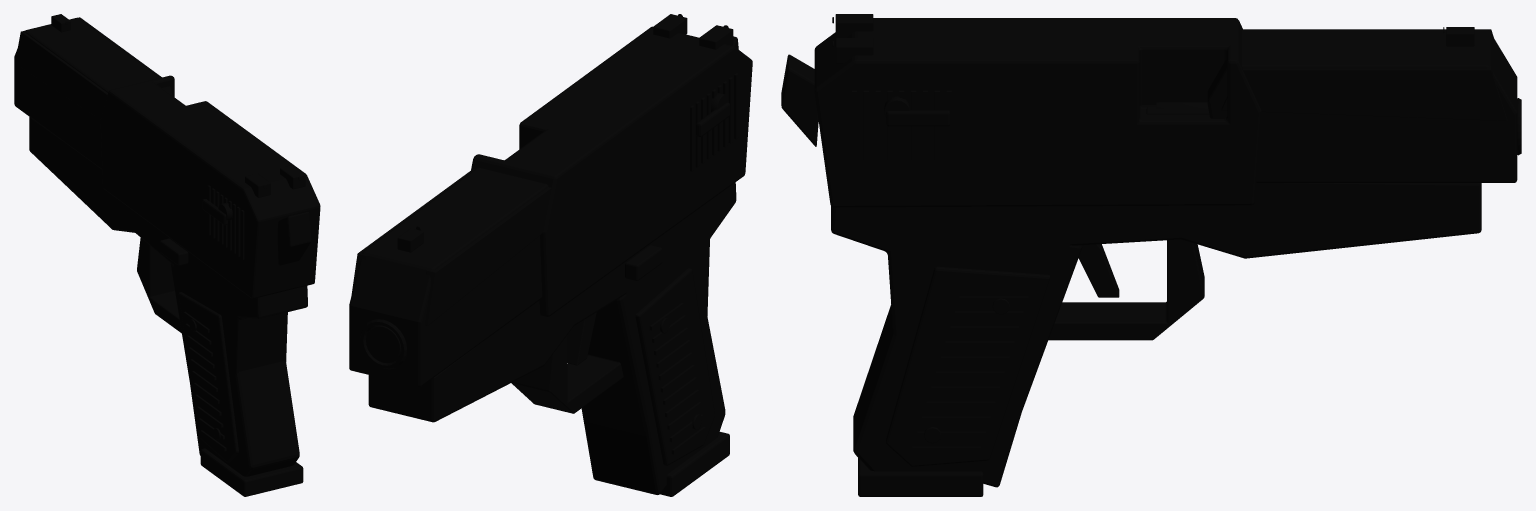
File: deagle.glb
3 renders of one model, left to right at view 1: azimuth 30°, elevation 25°; view 2: azimuth 150°, elevation 25°; view 3: azimuth 270°, elevation 25°, orthographic. The views are drawn at different scales.
Parts seen in each view (by area): view 1: frame, slide; view 2: frame, slide; view 3: frame, slide.
Part boxes in pixels (x1,y1,x2,y2): frame: (14,14,307,496); slide: (100,75,320,298); frame: (349,167,736,496); slide: (471,14,752,316); frame: (831,27,1521,496); slide: (781,14,1261,207).
Size of the model in its own units: 0.055 by 0.2098 by 0.3126.
Materials: 5 (5 with a texture image).
